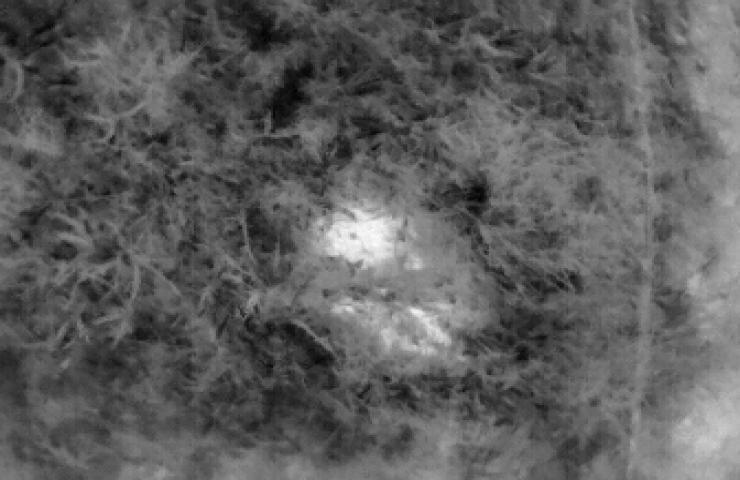landmines: (316, 207, 417, 271)
